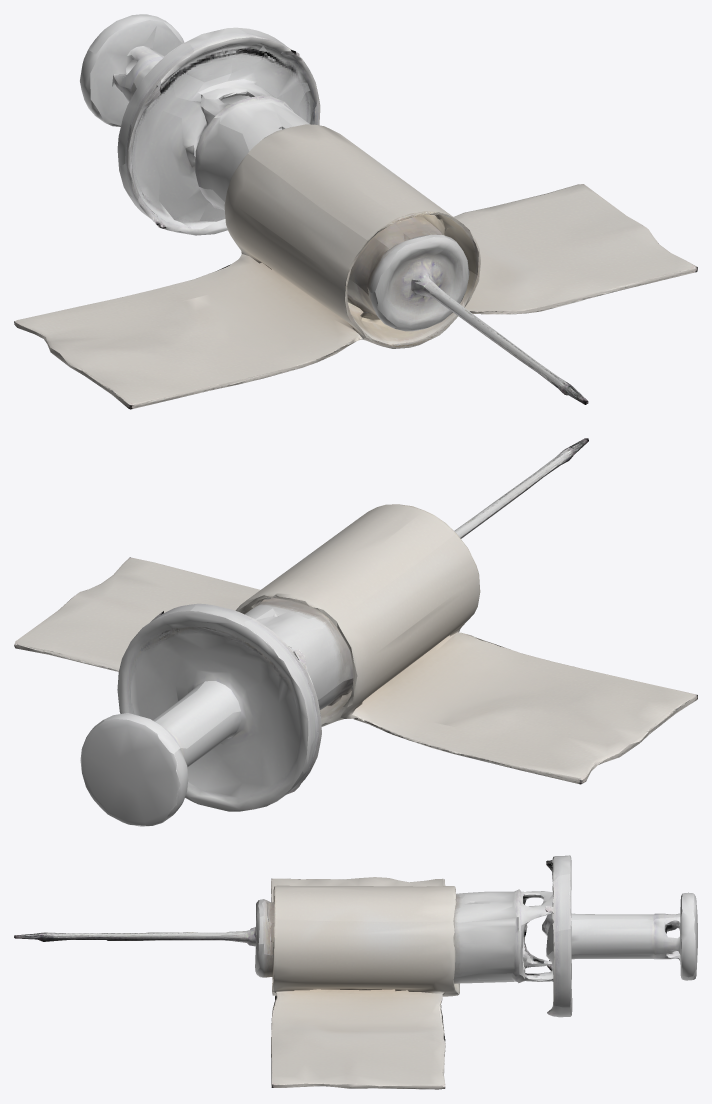
Rendered from drip needle.fbx.
3 renders of one model, top to bottom at view 1: azimuth 30°, elevation 25°; view 2: azimuth 150°, elevation 25°; view 3: azimuth 270°, elevation 25°, orthographic. The views are drawn at different scales.
Parts seen in each view (by area): view 1: node_9f164a8d_b0c0_48a4_82dd_427ea1789d66_mesh0; view 2: node_9f164a8d_b0c0_48a4_82dd_427ea1789d66_mesh0; view 3: node_9f164a8d_b0c0_48a4_82dd_427ea1789d66_mesh0.
Boxes of the visible parts, left/top/right/bottom form: node_9f164a8d_b0c0_48a4_82dd_427ea1789d66_mesh0: left=14, top=14, right=697, bottom=409; node_9f164a8d_b0c0_48a4_82dd_427ea1789d66_mesh0: left=14, top=438, right=697, bottom=826; node_9f164a8d_b0c0_48a4_82dd_427ea1789d66_mesh0: left=14, top=855, right=697, bottom=1089.
Bounding box in the file's own units: 71.85 × 23.48 × 100.
Materials: 1 (1 with a texture image).
